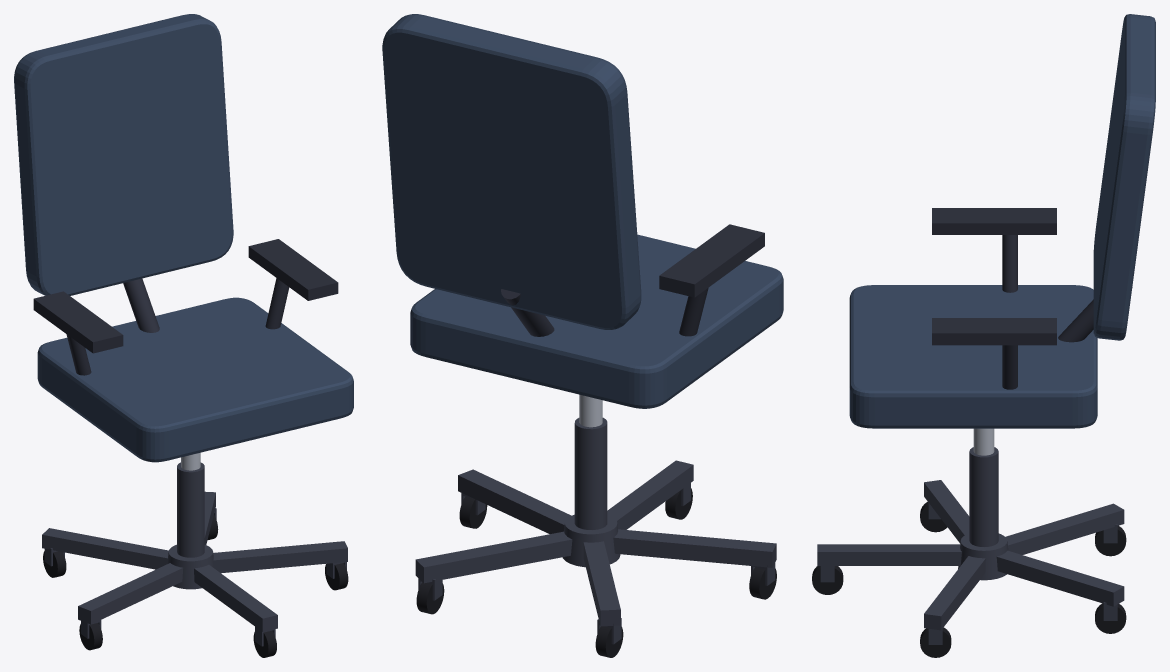
Rendered from hos-015.glb.
3 views of the same model, side by side, from view 1: azimuth 30°, elevation 25°; view 2: azimuth 150°, elevation 25°; view 3: azimuth 270°, elevation 25° (orthographic). The views are drawn at different scales.
Visible parts, largest first — view 1: backrest, seat, leg_1, arm_pad_left, arm_pad_right, leg_4, gas_lift_outer, leg_3, leg_2, back_support, hub, arm_post_right (+1 smaller); view 2: backrest, seat, leg_3, leg_5, arm_pad_left, gas_lift_outer, leg_1, leg_2, wheel (×4), leg_4, hub, back_support (+2 smaller); view 3: seat, backrest, arm_pad_right, arm_pad_left, leg_2, leg_5, gas_lift_outer, leg_4, wheel (×4), leg_1, leg_3, hub (+4 smaller).
Part boxes in pixels (x1,y1,x2,y2): backrest: (14,14,233,295); seat: (37,297,353,462); leg_1: (213,541,347,573); arm_pad_left: (33,291,123,353); arm_pad_right: (248,239,338,300); leg_4: (42,528,168,569); gas_lift_outer: (177,462,204,557); leg_3: (78,563,183,624); leg_2: (194,564,277,631); back_support: (123,278,159,332); hub: (167,544,213,589); arm_post_right: (265,278,289,329); backrest: (382,14,641,329); seat: (410,234,783,408); leg_3: (613,529,776,567); leg_5: (415,531,572,583); arm_pad_left: (659,224,764,297); gas_lift_outer: (574,417,607,529); leg_1: (458,469,571,533); leg_2: (607,460,693,529); wheel (×4): (416,496,776,657); leg_4: (583,541,620,626); hub: (562,514,620,567); back_support: (501,289,554,336); seat: (849,285,1097,428); backrest: (1093,14,1155,340); arm_pad_right: (932,318,1056,345); arm_pad_left: (932,208,1056,234); leg_2: (817,544,961,565); leg_5: (996,550,1124,606); gas_lift_outer: (969,447,998,546); leg_4: (1005,503,1124,554); wheel (×4): (812,525,1126,657); leg_1: (924,556,985,630); leg_3: (924,480,969,543); hub: (958,533,1008,580).
Size of the model in its own units: 0.6195 by 1.14 by 0.6597.
